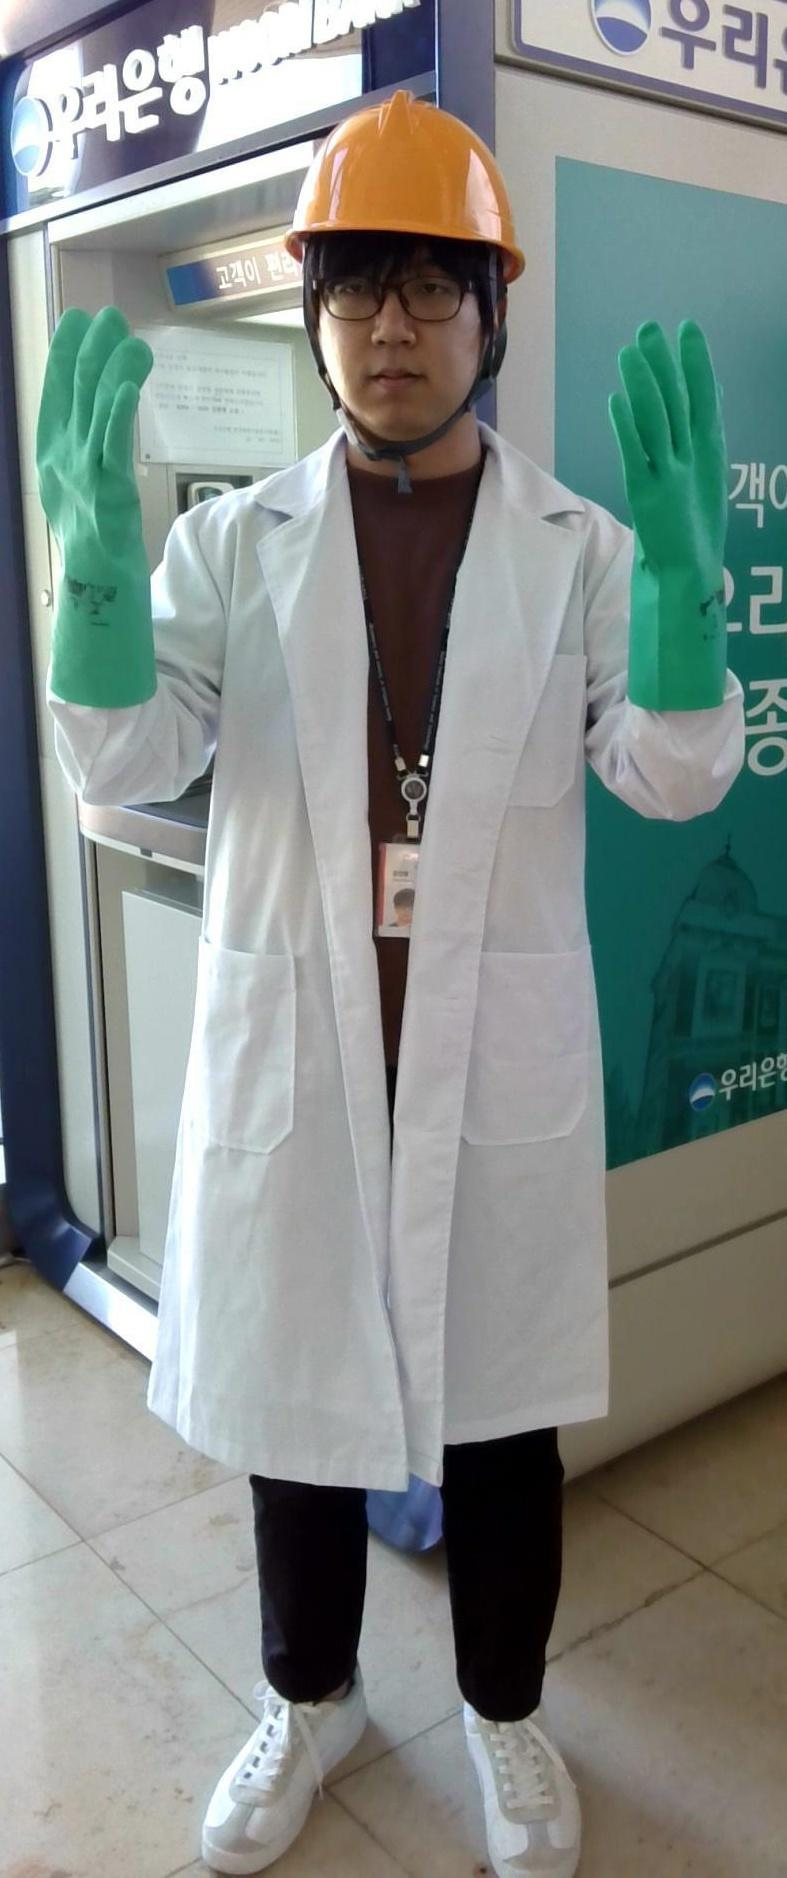lab_coat: (155, 497, 615, 1471)
